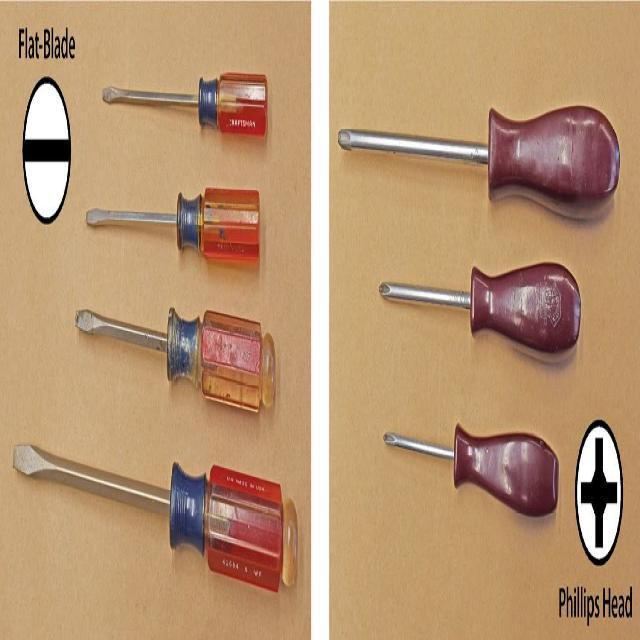screwdriver: (10, 434, 300, 598), (334, 102, 626, 228), (75, 302, 278, 426), (377, 249, 583, 364), (382, 421, 560, 523), (84, 180, 262, 266), (98, 63, 270, 149)
